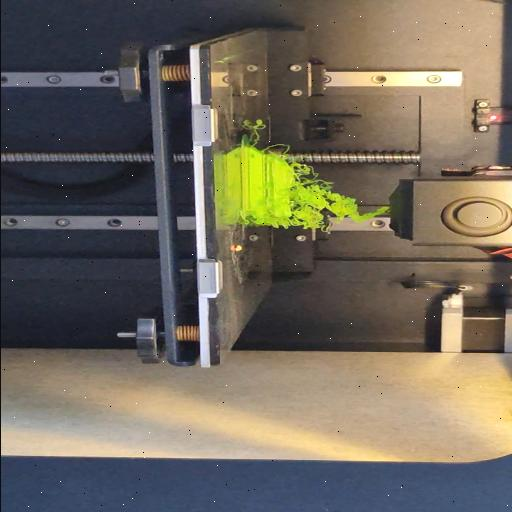spaghetti: (290, 160, 390, 230), (240, 217, 290, 230), (251, 116, 267, 144), (262, 144, 290, 156)
